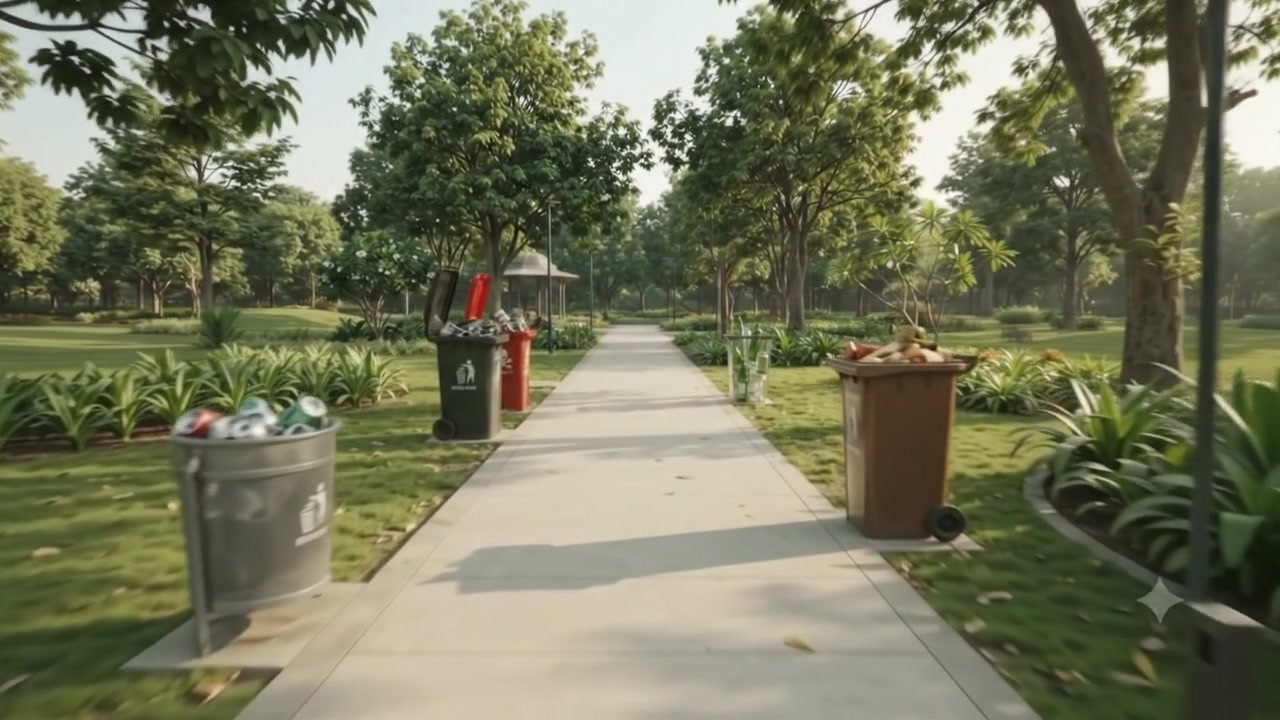metal: (179, 382, 358, 648)
